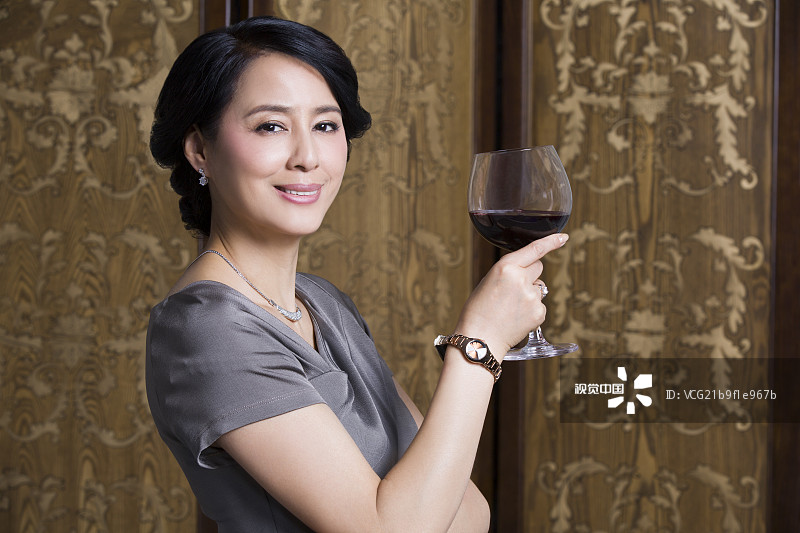no-phone: (449, 143, 597, 356)
